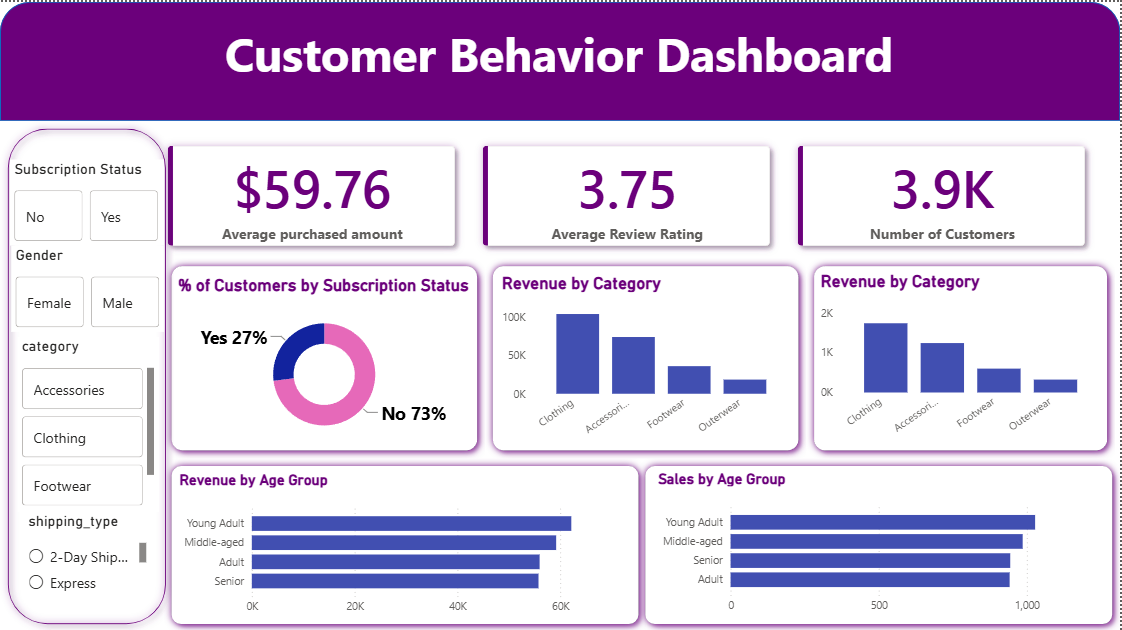

The dashboard page shown, as its layout file describes it:
{"tool":"powerbi","page":{"name":"Page 1","canvas":[1280,720],"ordinal":0},"visuals":[{"type":"cardVisual","fields":{"Data":["customer_shopping_behavior.Average purchased amount","customer_shopping_behavior.average review rating","customer_shopping_behavior.number of customers"]},"box":[162.9,135.7,1108.6,172.9],"z":0},{"type":"shape","box":[0,0,1280.3,135.8],"z":1},{"type":"textbox","box":[91.9,16.5,1095,102.9],"z":2},{"type":"shape","box":[187.1,292.9,367.1,228.6],"z":3},{"type":"donutChart","title":"% of Customers by Subscription Status","fields":{"Category":["customer_shopping_behavior.subscription_status"],"Y":["CountNonNull(customer_shopping_behavior.customer_id)"]},"box":[198.6,312.9,344.3,192.9],"z":4},{"type":"shape","box":[554.3,292.9,367.1,228.6],"z":5},{"type":"shape","box":[921.4,292.9,352.9,228.6],"z":6},{"type":"clusteredColumnChart","title":"Revenue by Category","fields":{"Y":["Sum(customer_shopping_behavior.purchased_amount)"],"Category":["customer_shopping_behavior.category"]},"box":[568.6,310,340,195.7],"z":7},{"type":"clusteredColumnChart","title":"Revenue by Category","fields":{"Y":["CountNonNull(customer_shopping_behavior.customer_id)"],"Category":["customer_shopping_behavior.category"]},"box":[932.9,308.6,331.4,195.7],"z":8},{"type":"shape","box":[0,135.7,198.6,584.3],"z":9},{"type":"advancedSlicerVisual","fields":{"Values":["customer_shopping_behavior.subscription_status"]},"box":[11.4,180,175.7,98.6],"z":10},{"type":"advancedSlicerVisual","fields":{"Values":["customer_shopping_behavior.gender"]},"box":[12.9,278.6,174.3,98.6],"z":11},{"type":"advancedSlicerVisual","fields":{"Values":["customer_shopping_behavior.category"]},"box":[20,382.9,161.4,200],"z":12},{"type":"listSlicer","fields":{"Values":["customer_shopping_behavior.shipping_type"]},"box":[27.1,582.9,145.7,104.3],"z":13},{"type":"shape","box":[187.1,521.4,551.4,198.6],"z":15},{"type":"clusteredBarChart","title":"Revenue by Age Group","fields":{"Y":["Sum(customer_shopping_behavior.purchased_amount)"],"Category":["customer_shopping_behavior.age_group"]},"box":[200,535.7,514.3,172.9],"z":16},{"type":"shape","box":[728.6,521.4,551.4,198.6],"z":17},{"type":"clusteredBarChart","title":"Sales by Age Group","fields":{"Y":["CountNonNull(customer_shopping_behavior.customer_id)"],"Category":["customer_shopping_behavior.age_group"]},"box":[747.1,534.3,514.3,172.9],"z":18}]}

Visuals, with their boxes in screenshot pixels (x1, y1, x2, y2), scaled from the page's 1280x720 canvas onto the 1122x630 screenshot:
cardVisual - customer_shopping_behavior.Average purchased amount x customer_shopping_behavior.average review rating: 143,119,1115,270
shape: 0,0,1121,119
textbox: 81,14,1040,104
shape: 164,256,486,456
"% of Customers by Subscription Status" donutChart: 174,274,476,443
shape: 486,256,808,456
shape: 808,256,1117,456
"Revenue by Category" clusteredColumnChart: 498,271,796,442
"Revenue by Category" clusteredColumnChart: 818,270,1108,441
shape: 0,119,174,629
advancedSlicerVisual - customer_shopping_behavior.subscription_status: 10,158,164,244
advancedSlicerVisual - customer_shopping_behavior.gender: 11,244,164,330
advancedSlicerVisual - customer_shopping_behavior.category: 18,335,159,510
listSlicer - customer_shopping_behavior.shipping_type: 24,510,151,601
shape: 164,456,647,629
"Revenue by Age Group" clusteredBarChart: 175,469,626,620
shape: 639,456,1121,629
"Sales by Age Group" clusteredBarChart: 655,468,1106,619
